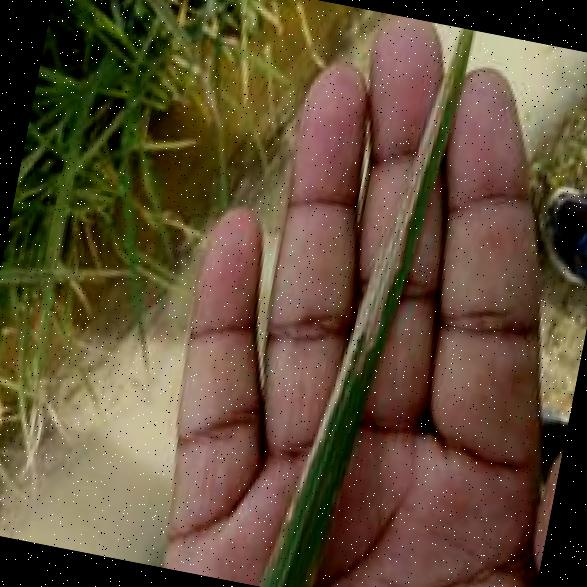Bacteria_Leaf_Blight: (292, 64, 433, 520)
